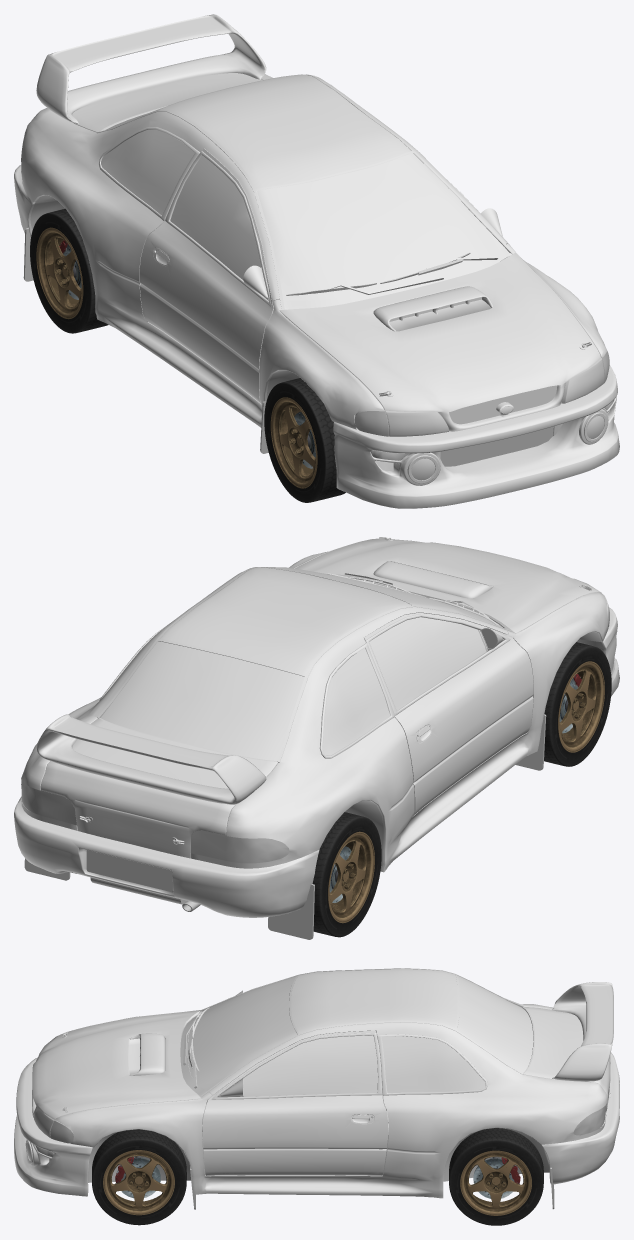
Rendered from Rally Car.fbx.
3 views of the same model, one above another, from view 1: azimuth 30°, elevation 25°; view 2: azimuth 150°, elevation 25°; view 3: azimuth 270°, elevation 25° (orthographic). The views are drawn at different scales.
Parts seen in each view (by area): view 1: Body, glass, Right Doors, Wheel.005, Wheel.004, Car, Plane.001, grill, headlight.001, headlight, blinker.001, fog light; view 2: Body, glass, Right Doors, Wheel.004, Wheel.005, Car, tail light, licence plate, tail light.001, splasher.002, Exhaust, splasher.003; view 3: Body, Left Doors, glass, Wheel.002, Wheel.001, Car, tail light.001, Brake Disc.001, blinker.002, Brake Disc.
Boxes of the visible parts, x1,y1,x2,y2 form: Body: [14, 14, 619, 508]; glass: [101, 108, 503, 300]; Right Doors: [139, 148, 273, 404]; Wheel.005: [264, 378, 345, 502]; Wheel.004: [30, 208, 108, 333]; Car: [30, 74, 513, 422]; Plane.001: [440, 426, 553, 466]; grill: [449, 385, 557, 424]; headlight.001: [386, 410, 448, 436]; headlight: [562, 358, 604, 403]; blinker.001: [354, 409, 389, 436]; fog light: [407, 455, 438, 483]; Body: [14, 538, 619, 917]; glass: [101, 567, 496, 760]; Right Doors: [364, 612, 533, 814]; Wheel.004: [312, 812, 381, 937]; Wheel.005: [544, 642, 611, 766]; Car: [97, 567, 603, 871]; tail light: [190, 830, 289, 863]; licence plate: [86, 850, 172, 891]; tail light.001: [21, 778, 76, 825]; splasher.002: [268, 884, 314, 939]; Exhaust: [90, 877, 200, 911]; splasher.003: [515, 714, 546, 770]; Body: [14, 968, 619, 1198]; Left Doors: [202, 1030, 388, 1175]; glass: [188, 975, 533, 1093]; Wheel.002: [449, 1128, 543, 1225]; Wheel.001: [92, 1129, 186, 1225]; Car: [88, 968, 549, 1182]; tail light.001: [573, 1103, 606, 1135]; Brake Disc.001: [473, 1158, 514, 1198]; blinker.002: [50, 1120, 73, 1143]; Brake Disc: [116, 1157, 160, 1198].
Bounding box in the file's own units: 244 × 182 × 561.
